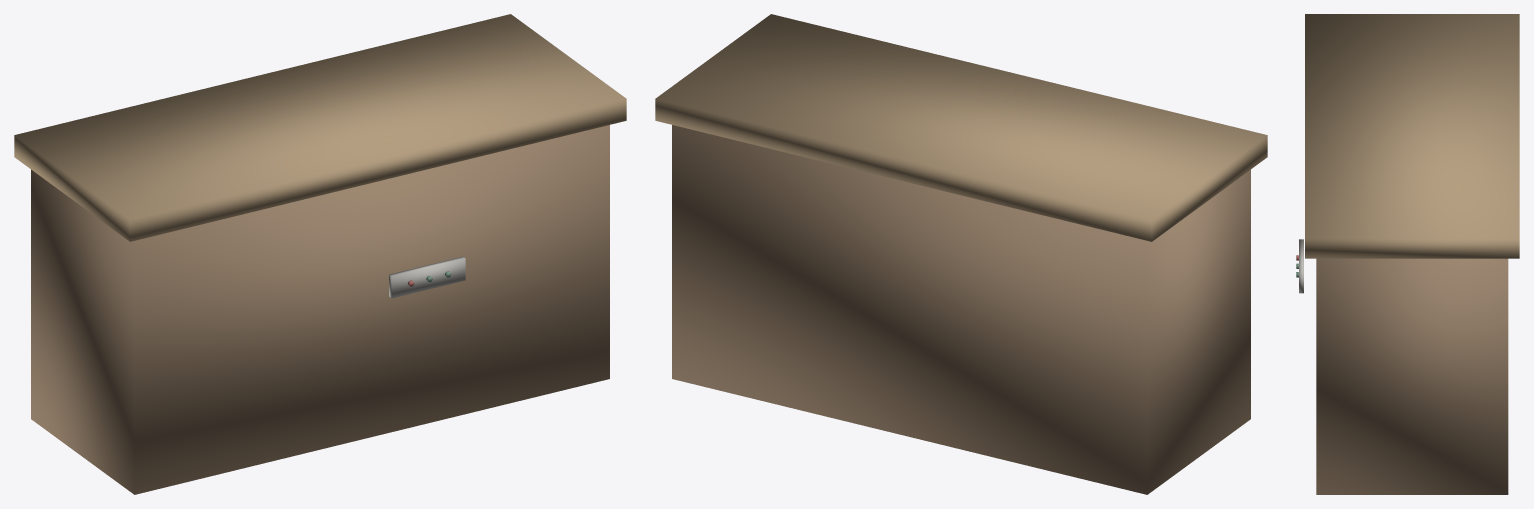
Rendered from hotel_reception_counter__reinforced.glb.
3 renders of one model, left to right at view 1: azimuth 30°, elevation 25°; view 2: azimuth 150°, elevation 25°; view 3: azimuth 270°, elevation 25°, orthographic. The views are drawn at different scales.
Parts seen in each view (by area): view 1: world; view 2: world; view 3: world.
Boxes of the visible parts, x1,y1,x2,y2 form: world: [14, 14, 626, 494]; world: [655, 14, 1267, 494]; world: [1296, 14, 1519, 494].
Size of the model in its own units: 1.94 by 1.05 by 0.8147.
